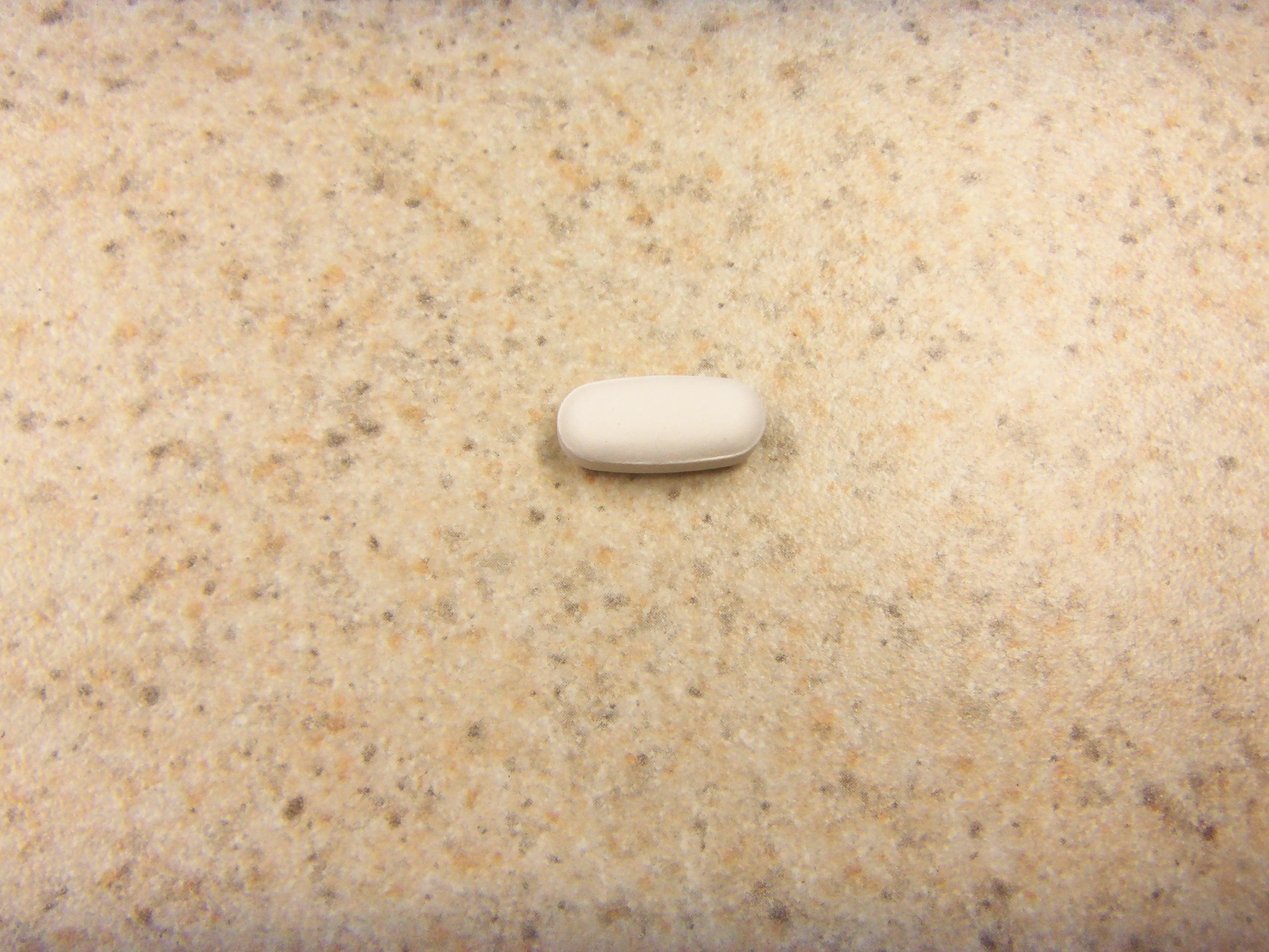Pill: (547, 366, 775, 483)
